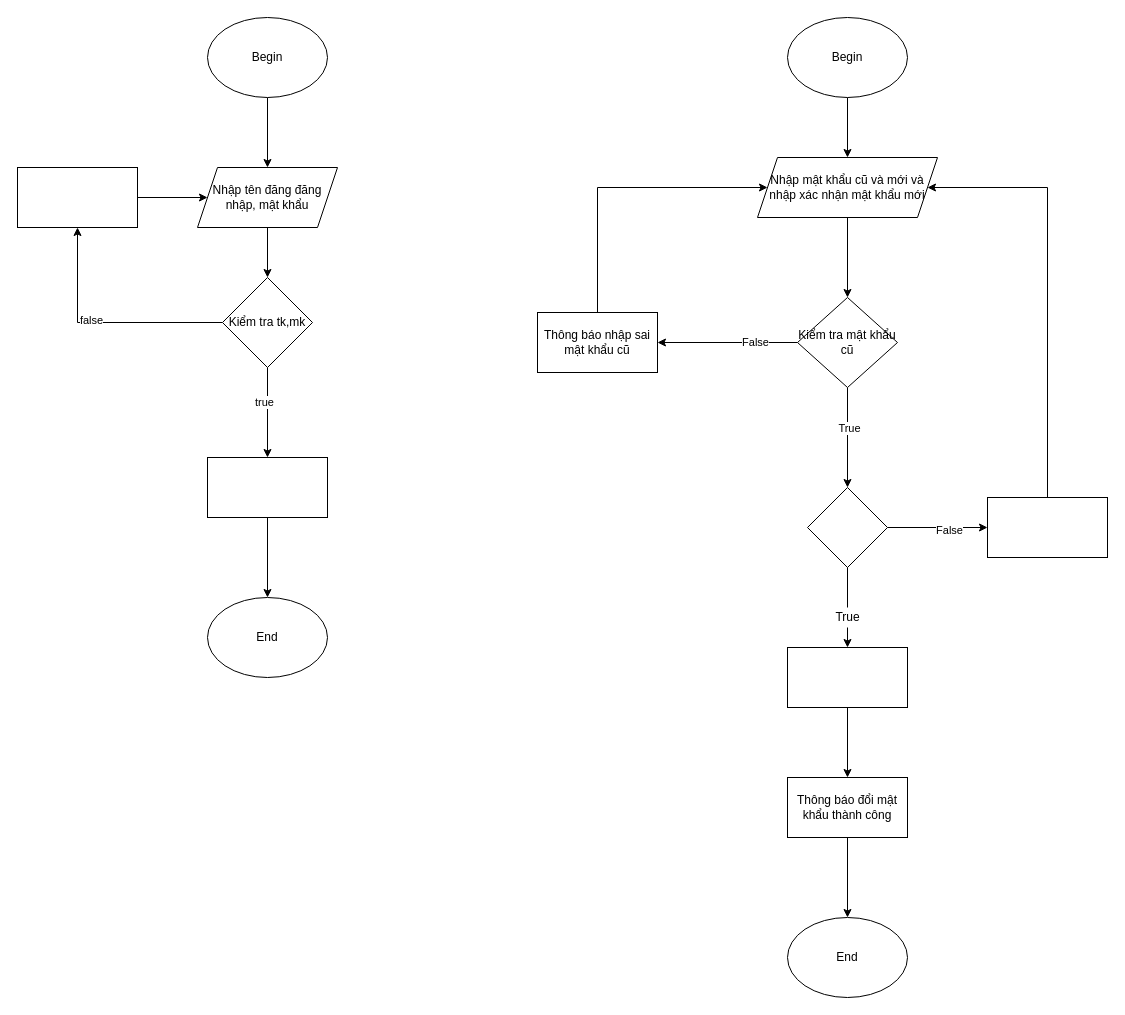
This 1125x1015 diagram has some shape labels left out. Each missing label, with the box of its shape:
gán mật khẩu cũ bằng mật khẩu mới: (786, 646, 908, 708)
Kiểm tra mật khẩu mới: (806, 486, 888, 568)
Thông báo lỗi: (16, 166, 138, 228)
Thông báo mật khẩu mới và mật khẩu xác nhận không trùng khớp: (986, 496, 1108, 558)
Đăng nhập thành công: (206, 456, 328, 518)
